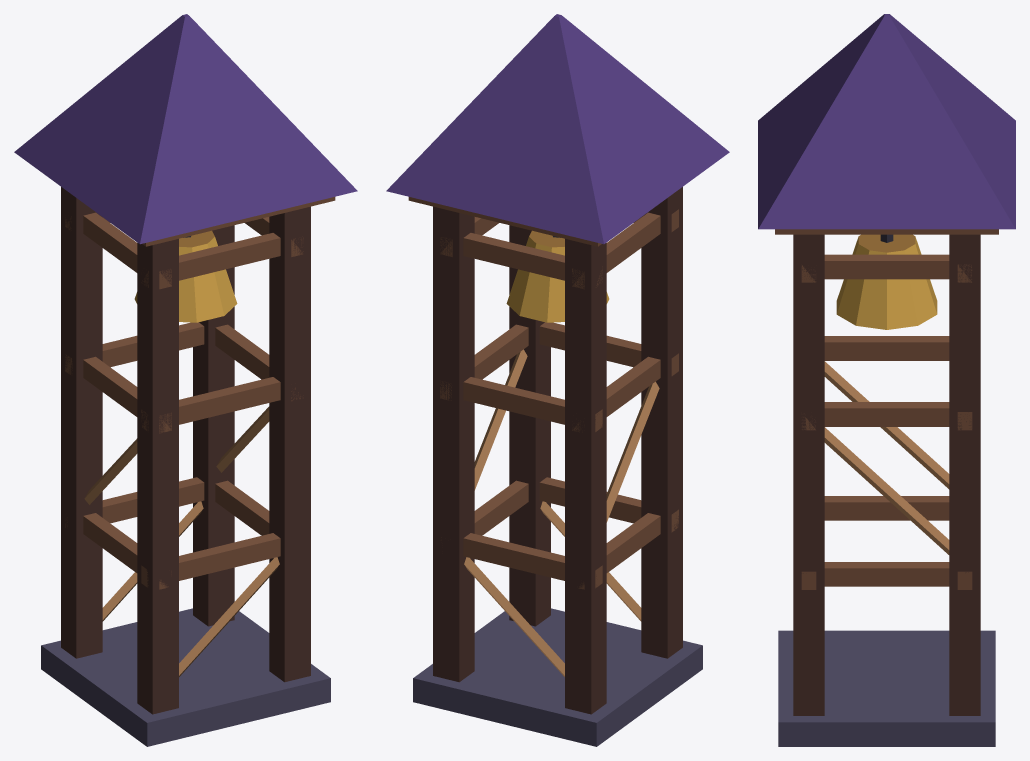
The model's file is Set_BellTower.fbx.
The picture shows the model from 3 angles, left to right: view 1: azimuth 30°, elevation 25°; view 2: azimuth 150°, elevation 25°; view 3: azimuth 270°, elevation 25°; orthographic projection. The views are drawn at different scales.
Parts seen in each view (by area): view 1: Set_BellTower; view 2: Set_BellTower; view 3: Set_BellTower.
Boxes of the visible parts, x1,y1,x2,y2 form: Set_BellTower: (14, 14, 357, 746); Set_BellTower: (386, 14, 729, 746); Set_BellTower: (758, 14, 1015, 746).
Size of what is drawn, in the model's own units: 3.8 by 11.16 by 3.8.
1 material, 1 textured.
